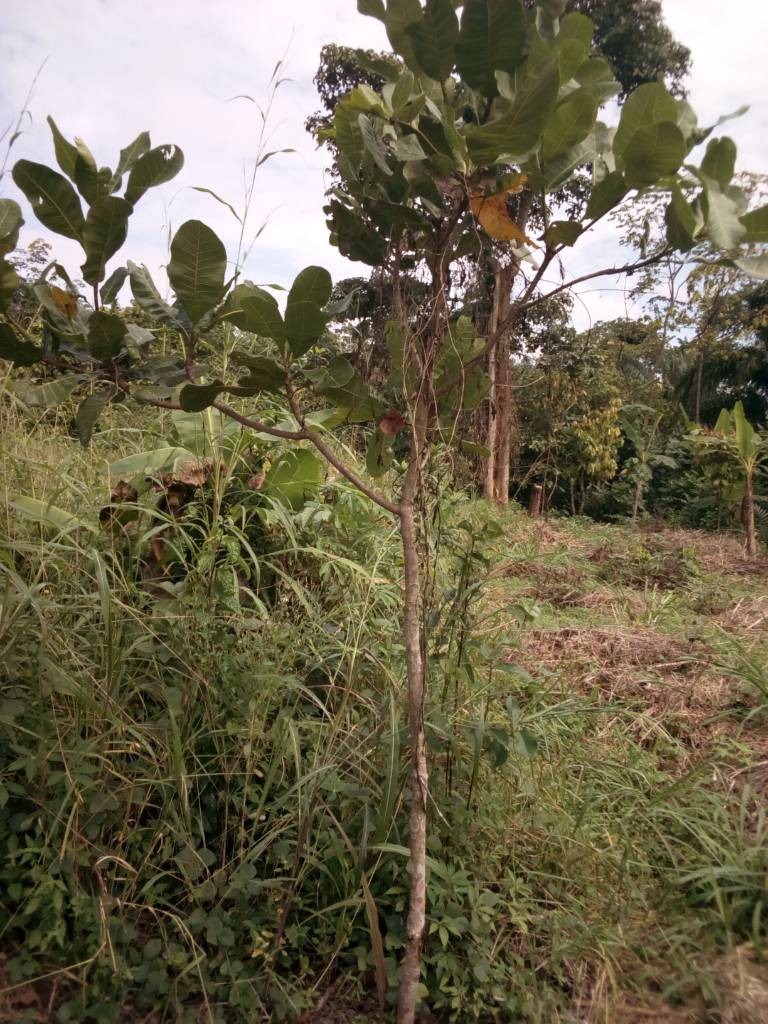Helopeltis anacardii: (466, 60, 565, 172), (171, 217, 225, 327), (82, 192, 138, 285)
